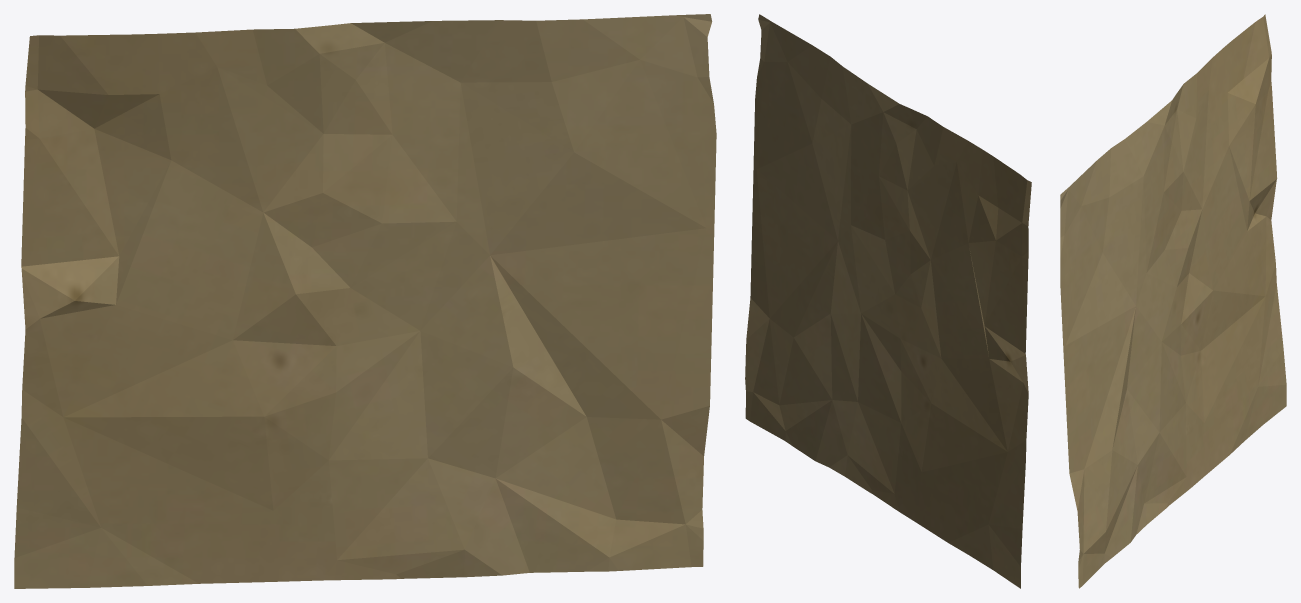
The picture shows the model from 3 angles, left to right: view 1: azimuth 30°, elevation 25°; view 2: azimuth 150°, elevation 25°; view 3: azimuth 270°, elevation 25°; orthographic projection. The views are drawn at different scales.
Size of the model in its own units: 0.8373 by 0.8374 by 0.4386.
Materials: 3 (3 with a texture image).
